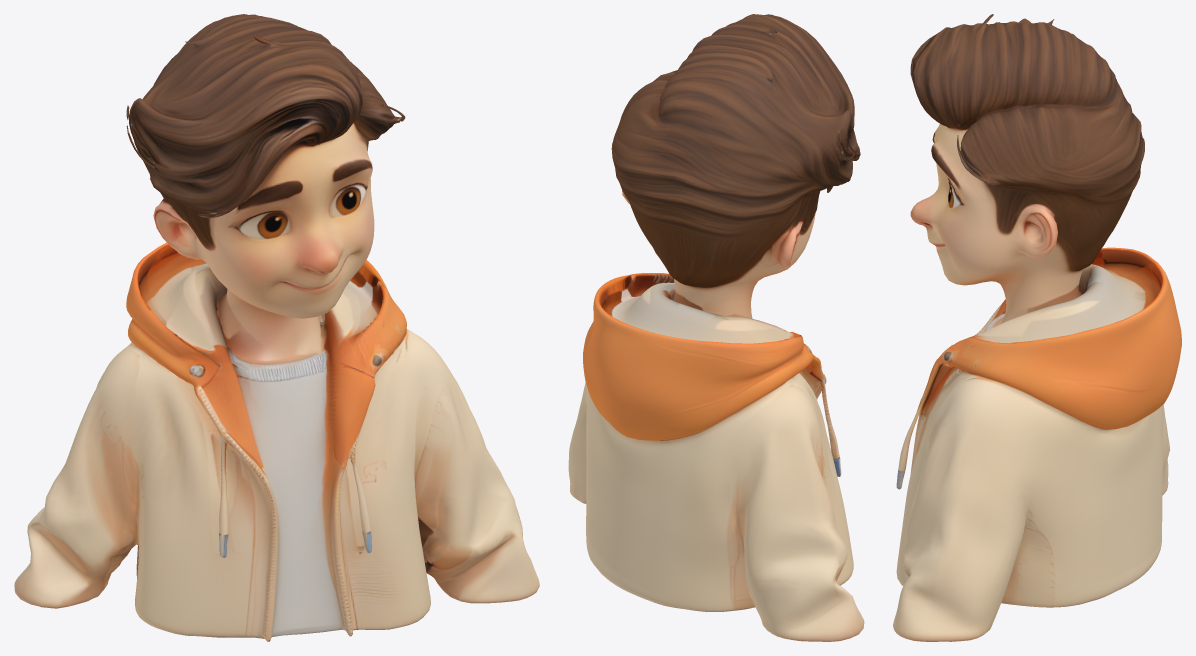
Rendered from hero3d.glb.
3 renders of one model, left to right at view 1: azimuth 30°, elevation 25°; view 2: azimuth 150°, elevation 25°; view 3: azimuth 270°, elevation 25°, orthographic. The views are drawn at different scales.
Parts seen in each view (by area): view 1: model; view 2: model; view 3: model.
Part boxes in pixels (<box>): model: <box>14,14,539,641</box>; model: <box>568,14,864,641</box>; model: <box>893,14,1181,641</box>.
Size of the model in its own units: 1.4 by 1.89 by 0.9505.
Materials: 1 (1 with a texture image).
